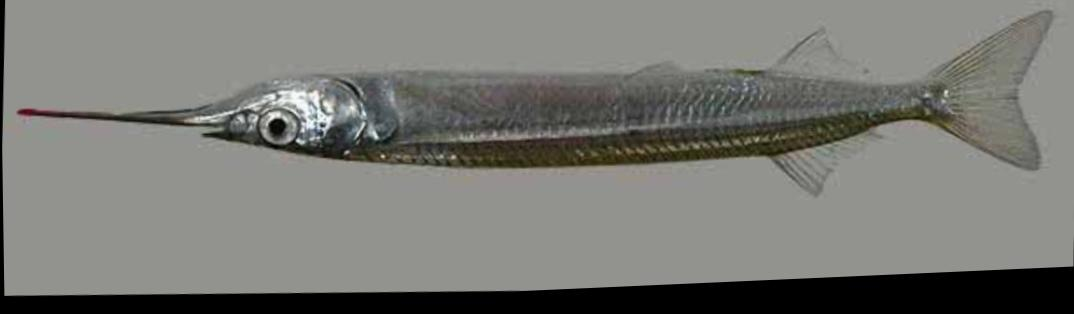fish: (19, 17, 1056, 201)
